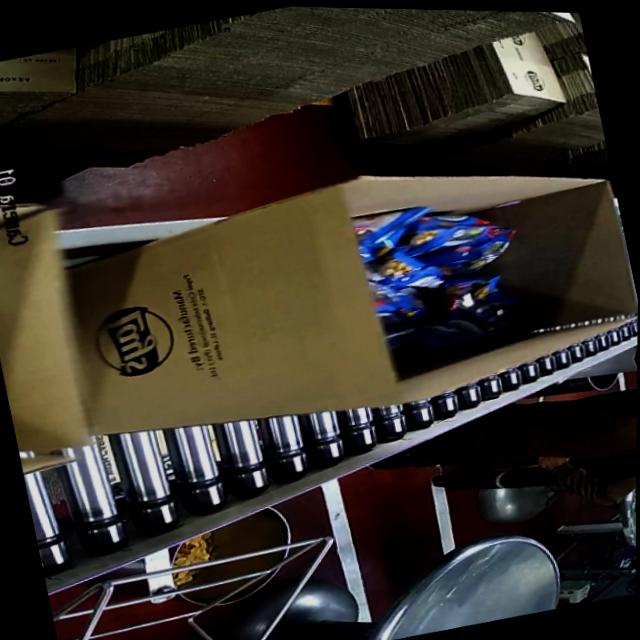PAPRIKA: (349, 188, 536, 376)
